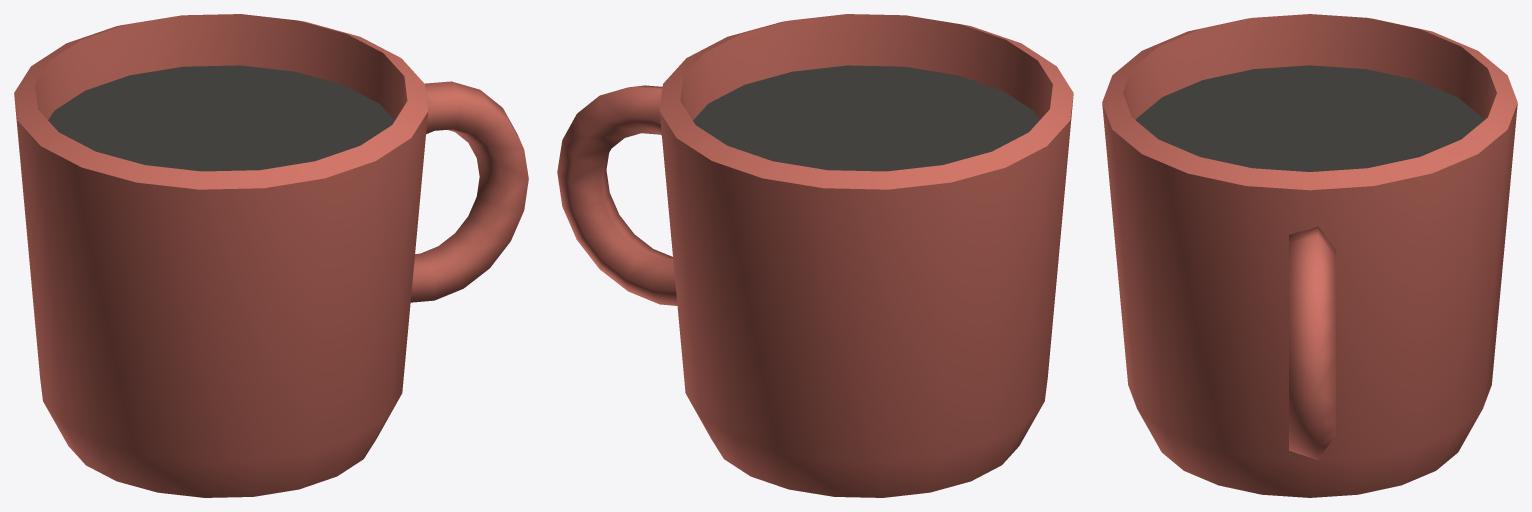
Rendered from dish_drink.glb.
3 views of the same model, side by side, from view 1: azimuth 30°, elevation 25°; view 2: azimuth 150°, elevation 25°; view 3: azimuth 270°, elevation 25° (orthographic).
Parts seen in each view (by area): view 1: PART; view 2: PART; view 3: PART.
Boxes of the visible parts, left/top/right/bottom form: PART: left=14, top=14, right=528, bottom=497; PART: left=557, top=14, right=1073, bottom=497; PART: left=1102, top=14, right=1517, bottom=497.
Size of the model in its own units: 0.1078 by 0.072 by 0.08.
